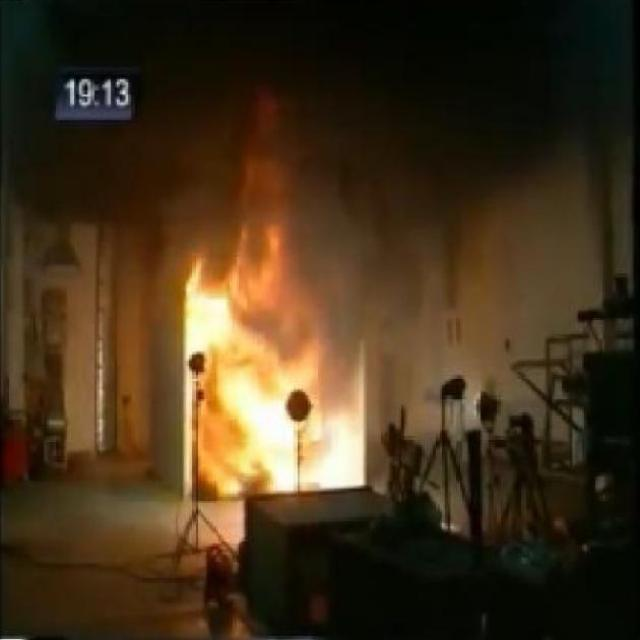smoke: (172, 160, 381, 506)
